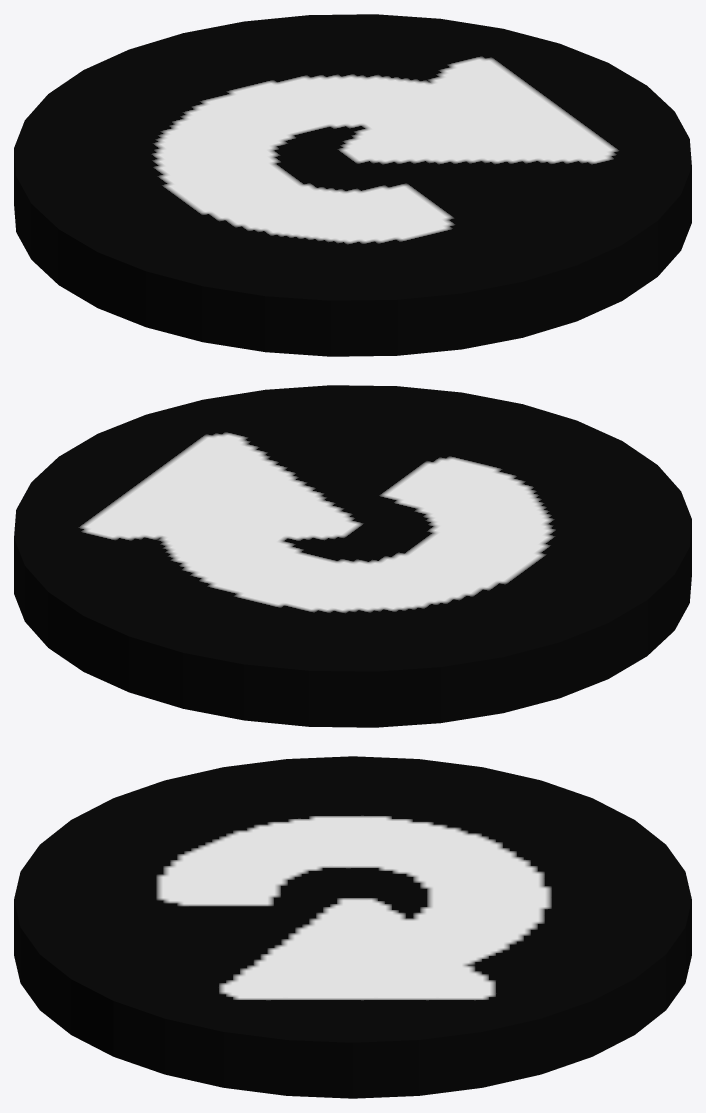
File: RotateTrigger.obj
The picture shows the model from 3 angles, top to bottom: view 1: azimuth 30°, elevation 25°; view 2: azimuth 150°, elevation 25°; view 3: azimuth 270°, elevation 25°; orthographic projection.
Parts seen in each view (by area): view 1: Cylinder; view 2: Cylinder; view 3: Cylinder.
Boxes of the visible parts, x1=… form: Cylinder: x1=14, y1=14, x2=691, y2=356; Cylinder: x1=14, y1=385, x2=691, y2=727; Cylinder: x1=14, y1=756, x2=691, y2=1098.
Bounding box in the file's own units: 1.1 × 0.1 × 1.1.
2 materials, 1 textured.
